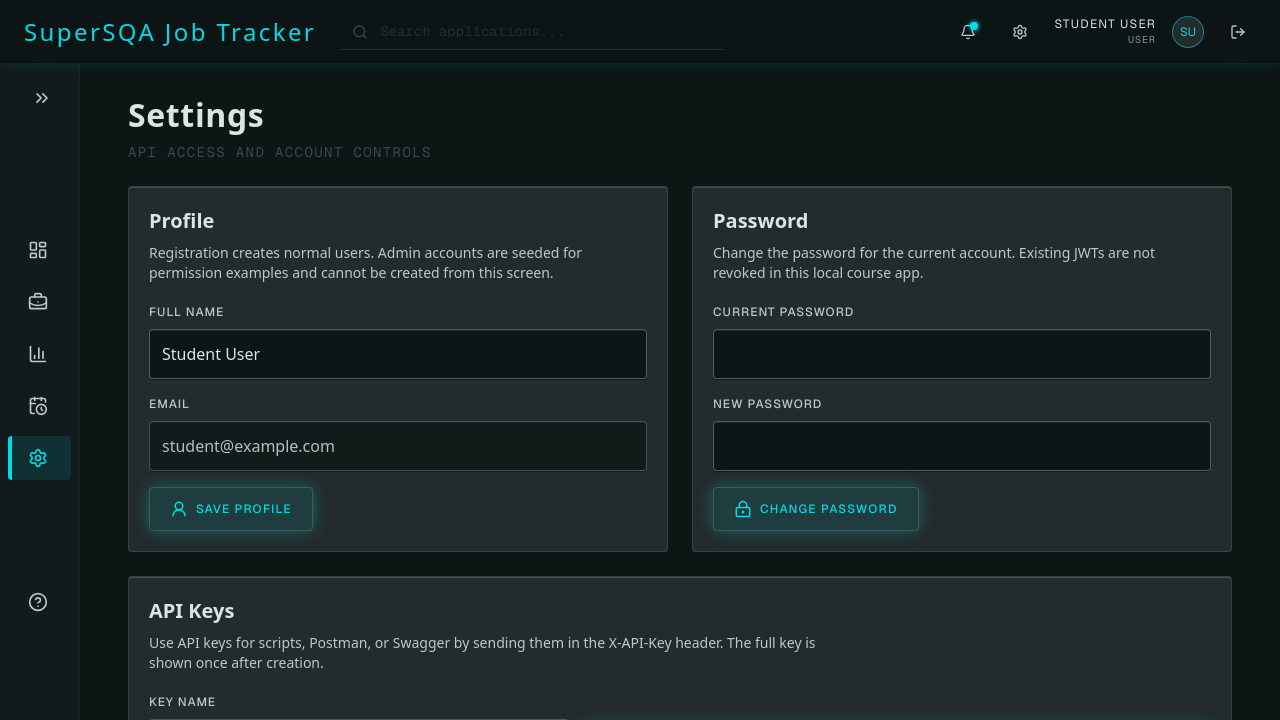
Test: ApiKeysPanel › updates the current user's profile
Expected: the heading "Settings" is shown, [128,93,264,136]
Replace the text in the field labelled "Full Name" with "Updated Student" at [398, 354], box [149,329,647,379]
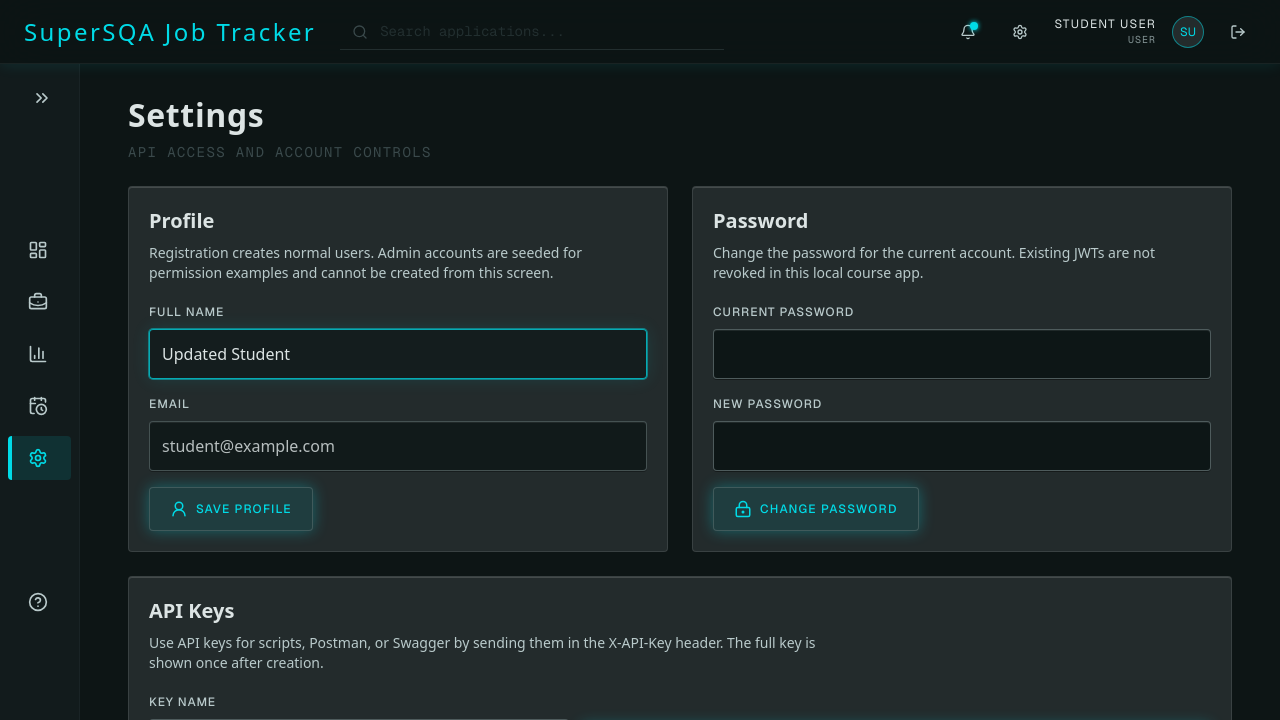
Click the button "Save Profile" at [231, 509], box [149,487,313,531]
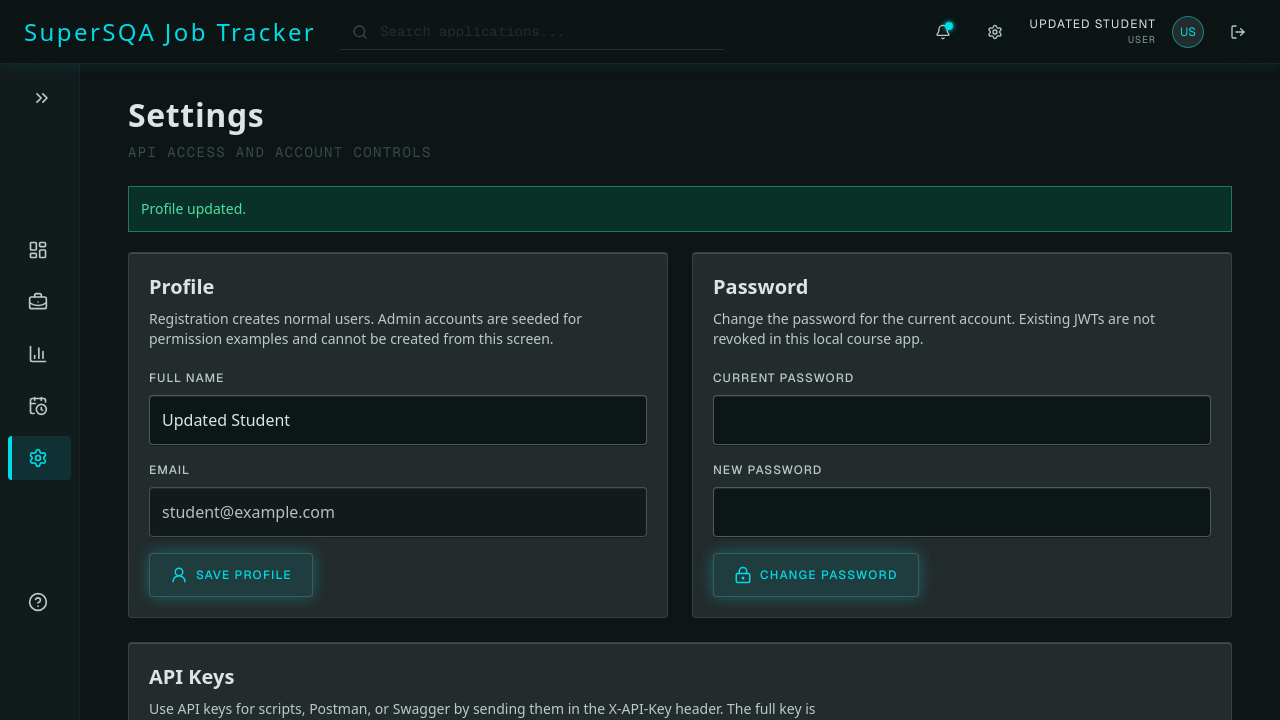
Expected: the text "Profile updated." is shown, [128,186,1232,232]
